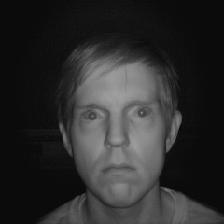sad: (52, 44, 181, 209)
